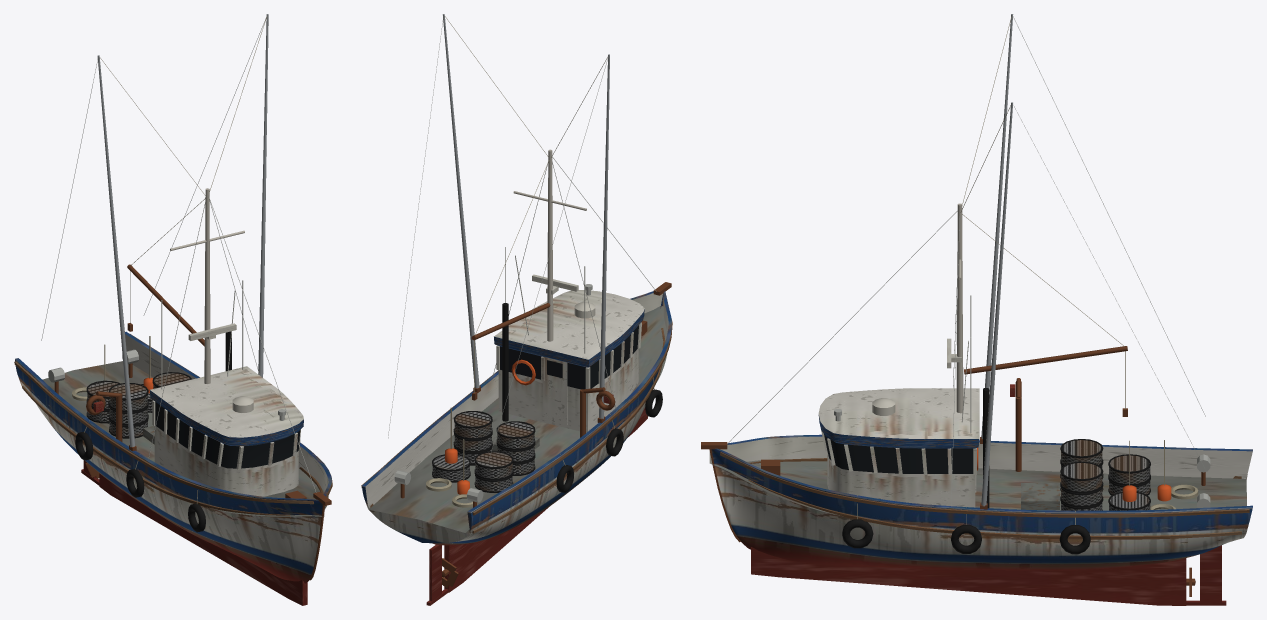
The model's file is fishingBoat-a-lod0.glb.
3 views of the same model, side by side, from view 1: azimuth 30°, elevation 25°; view 2: azimuth 150°, elevation 25°; view 3: azimuth 270°, elevation 25° (orthographic). The views are drawn at different scales.
Visible parts, largest first — view 1: Hull, Superstructure, Rig, Gear; view 2: Hull, Superstructure, Gear, Rig; view 3: Hull, Superstructure, Gear, Rig.
Boxes of the visible parts, left/top/right/bottom form: Hull: left=14, top=331, right=332, bottom=605; Superstructure: left=149, top=366, right=303, bottom=496; Rig: left=41, top=14, right=316, bottom=492; Gear: left=48, top=336, right=331, bottom=532; Hull: left=361, top=291, right=672, bottom=605; Superstructure: left=494, top=290, right=644, bottom=432; Gear: left=394, top=282, right=671, bottom=507; Rig: left=388, top=14, right=656, bottom=462; Hull: left=709, top=434, right=1252, bottom=605; Superstructure: left=818, top=388, right=979, bottom=507; Gear: left=701, top=378, right=1210, bottom=554; Rig: left=727, top=14, right=1205, bottom=509.
Bounding box in the file's own units: 5.07 × 13.85 × 12.68.
1 material, 1 textured.
